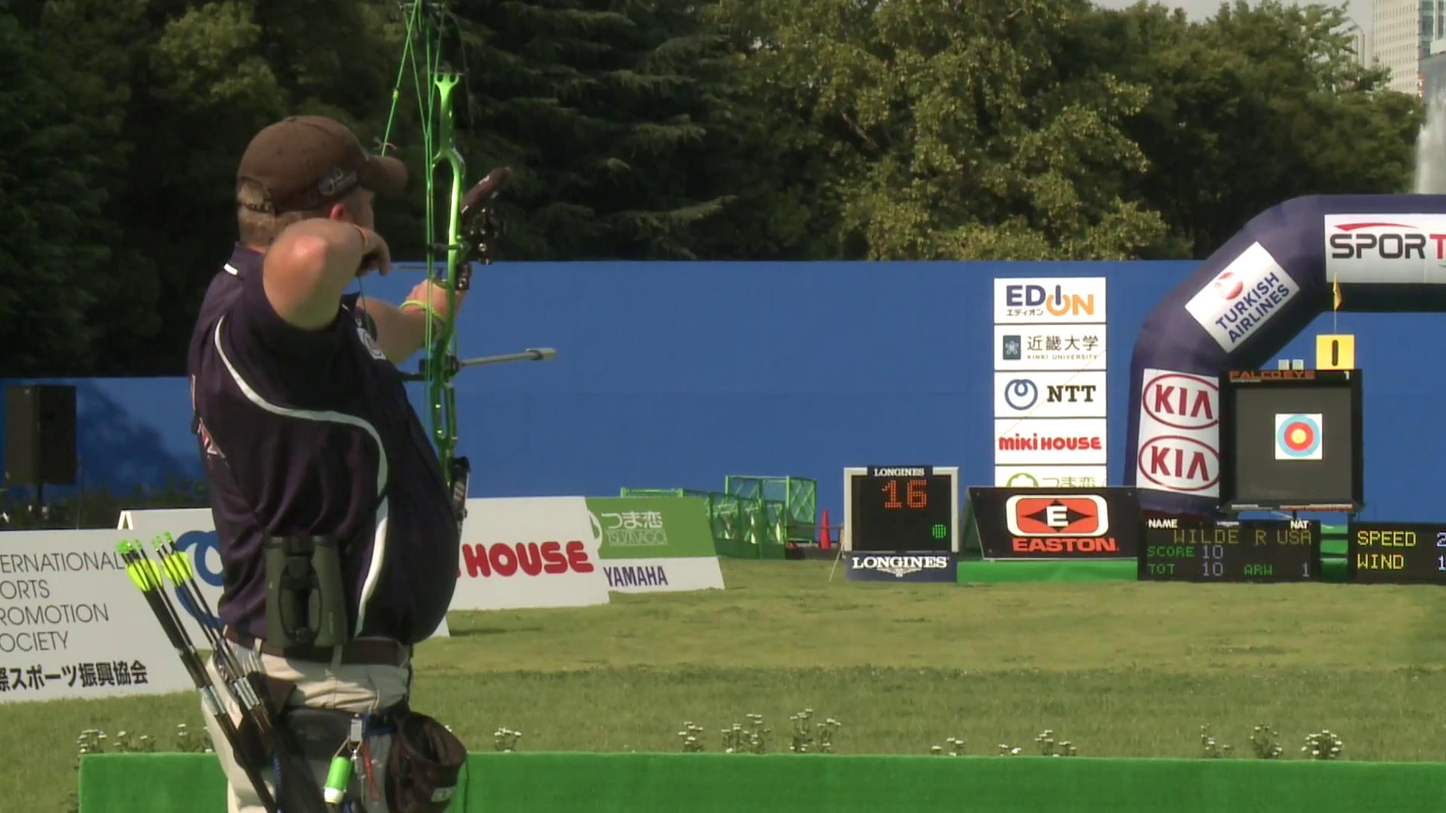victim: (180, 107, 470, 812)
